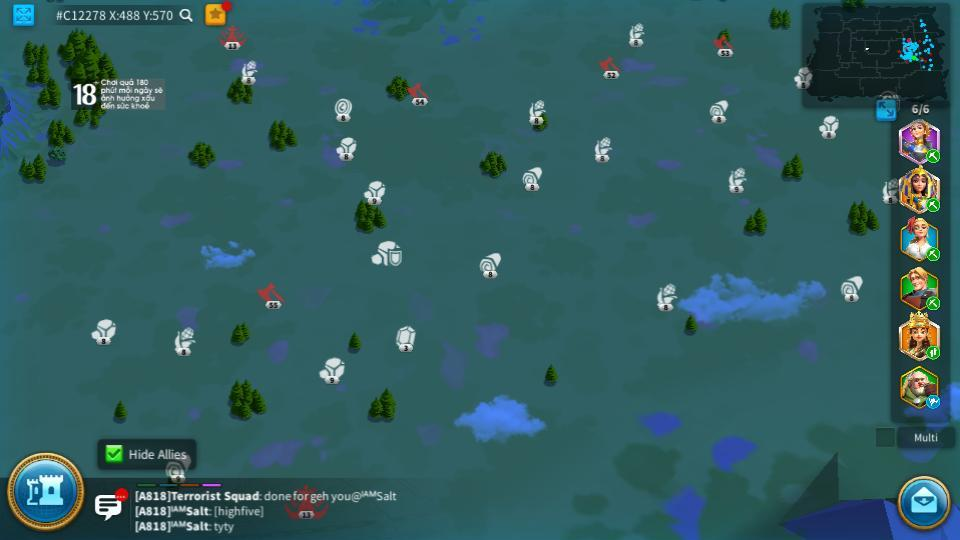march_marching: (925, 197, 941, 212), (926, 345, 940, 359), (926, 395, 942, 407), (925, 150, 941, 162), (925, 297, 941, 308), (926, 250, 941, 261)
